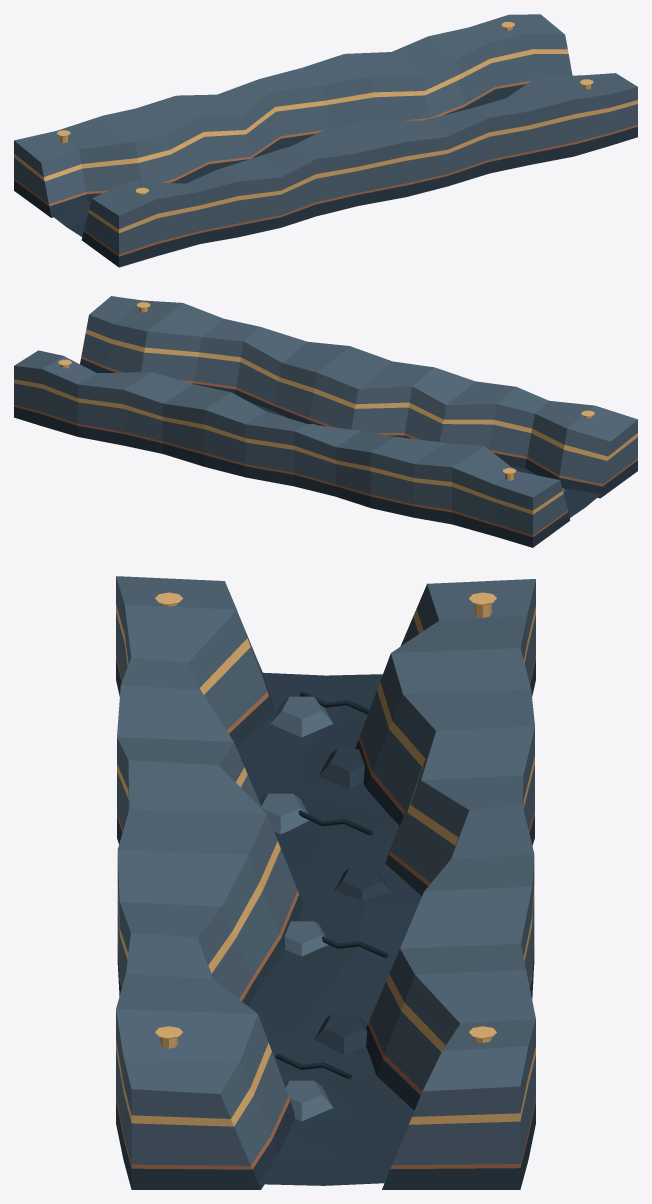
3 renders of one model, top to bottom at view 1: azimuth 30°, elevation 25°; view 2: azimuth 150°, elevation 25°; view 3: azimuth 270°, elevation 25°, orthographic. The views are drawn at different scales.
Visible parts, largest first — view 1: PR101 enamel and hardware; view 2: PR101 enamel and hardware; view 3: PR101 enamel and hardware.
Boxes of the visible parts, box(x1,y1,x2,y2) form: PR101 enamel and hardware: box(14, 14, 637, 267); PR101 enamel and hardware: box(14, 296, 637, 547); PR101 enamel and hardware: box(116, 576, 535, 1189).
Bounding box in the file's own units: 3.75 × 0.4 × 1.3.
